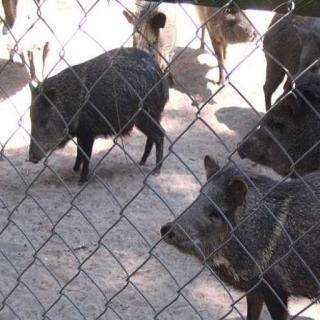Pig: (159, 141, 314, 320), (22, 33, 169, 188), (192, 0, 260, 85)
